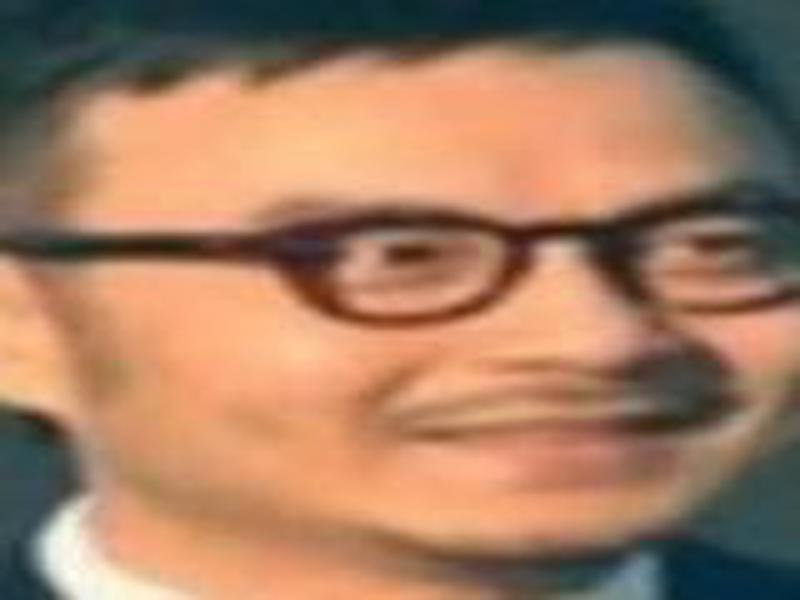without_mask: (54, 75, 800, 566)
